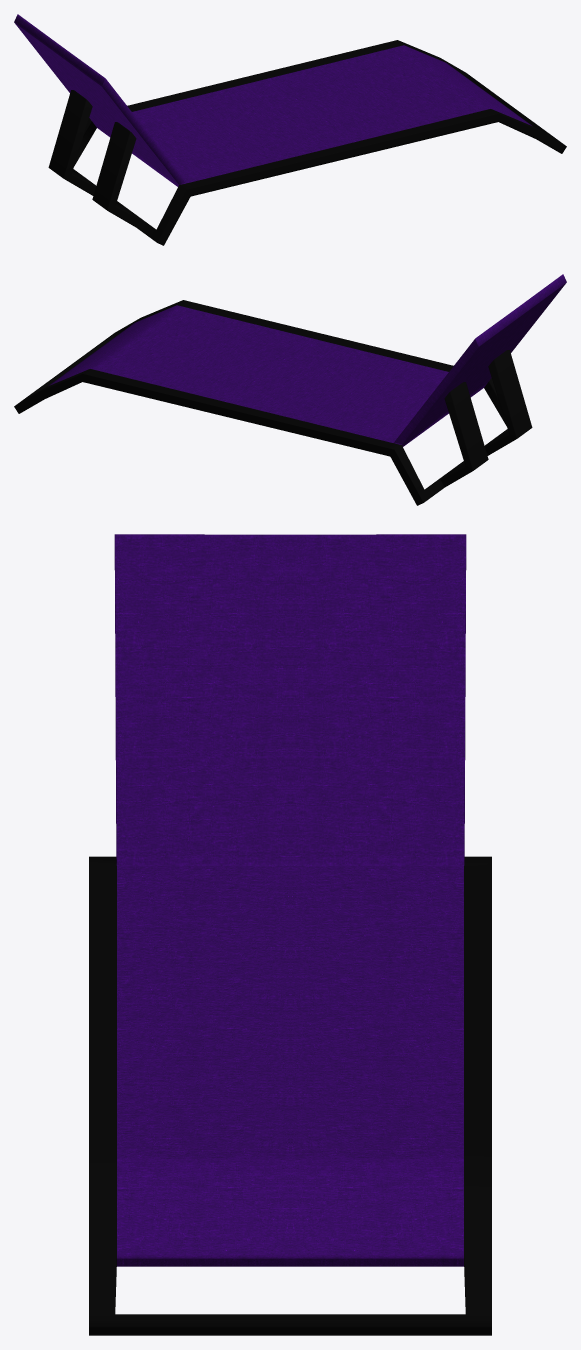
Rendered from Longchair_SM.fbx.
3 views of the same model, one above another, from view 1: azimuth 30°, elevation 25°; view 2: azimuth 150°, elevation 25°; view 3: azimuth 270°, elevation 25° (orthographic). The views are drawn at different scales.
Visible parts, largest first — view 1: Longchair_SM.001; view 2: Longchair_SM.001; view 3: Longchair_SM.001.
Part boxes in pixels (box(x1,y1,x2,y2)): Longchair_SM.001: box(14, 14, 566, 245); Longchair_SM.001: box(14, 274, 566, 505); Longchair_SM.001: box(89, 534, 491, 1335).
Bounding box in the file's own units: 435 × 164 × 166.
2 materials, 2 textured.
